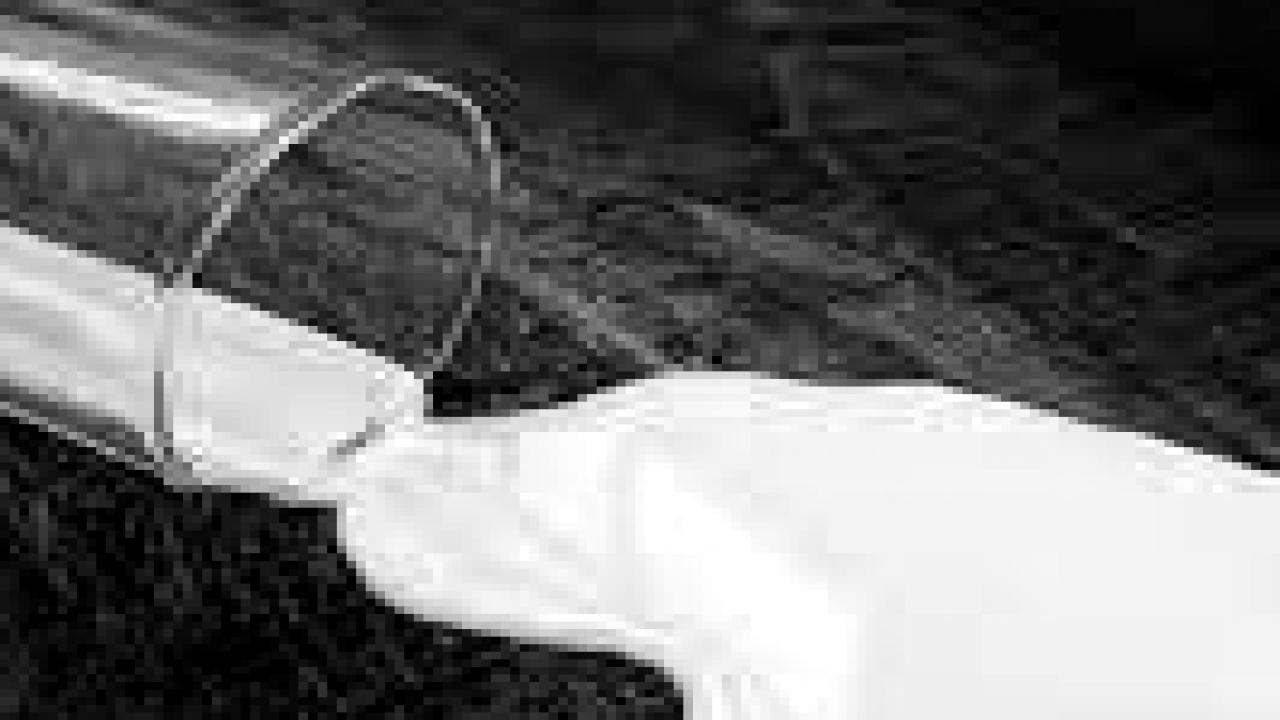drinks Stains: (519, 265, 1280, 719)
